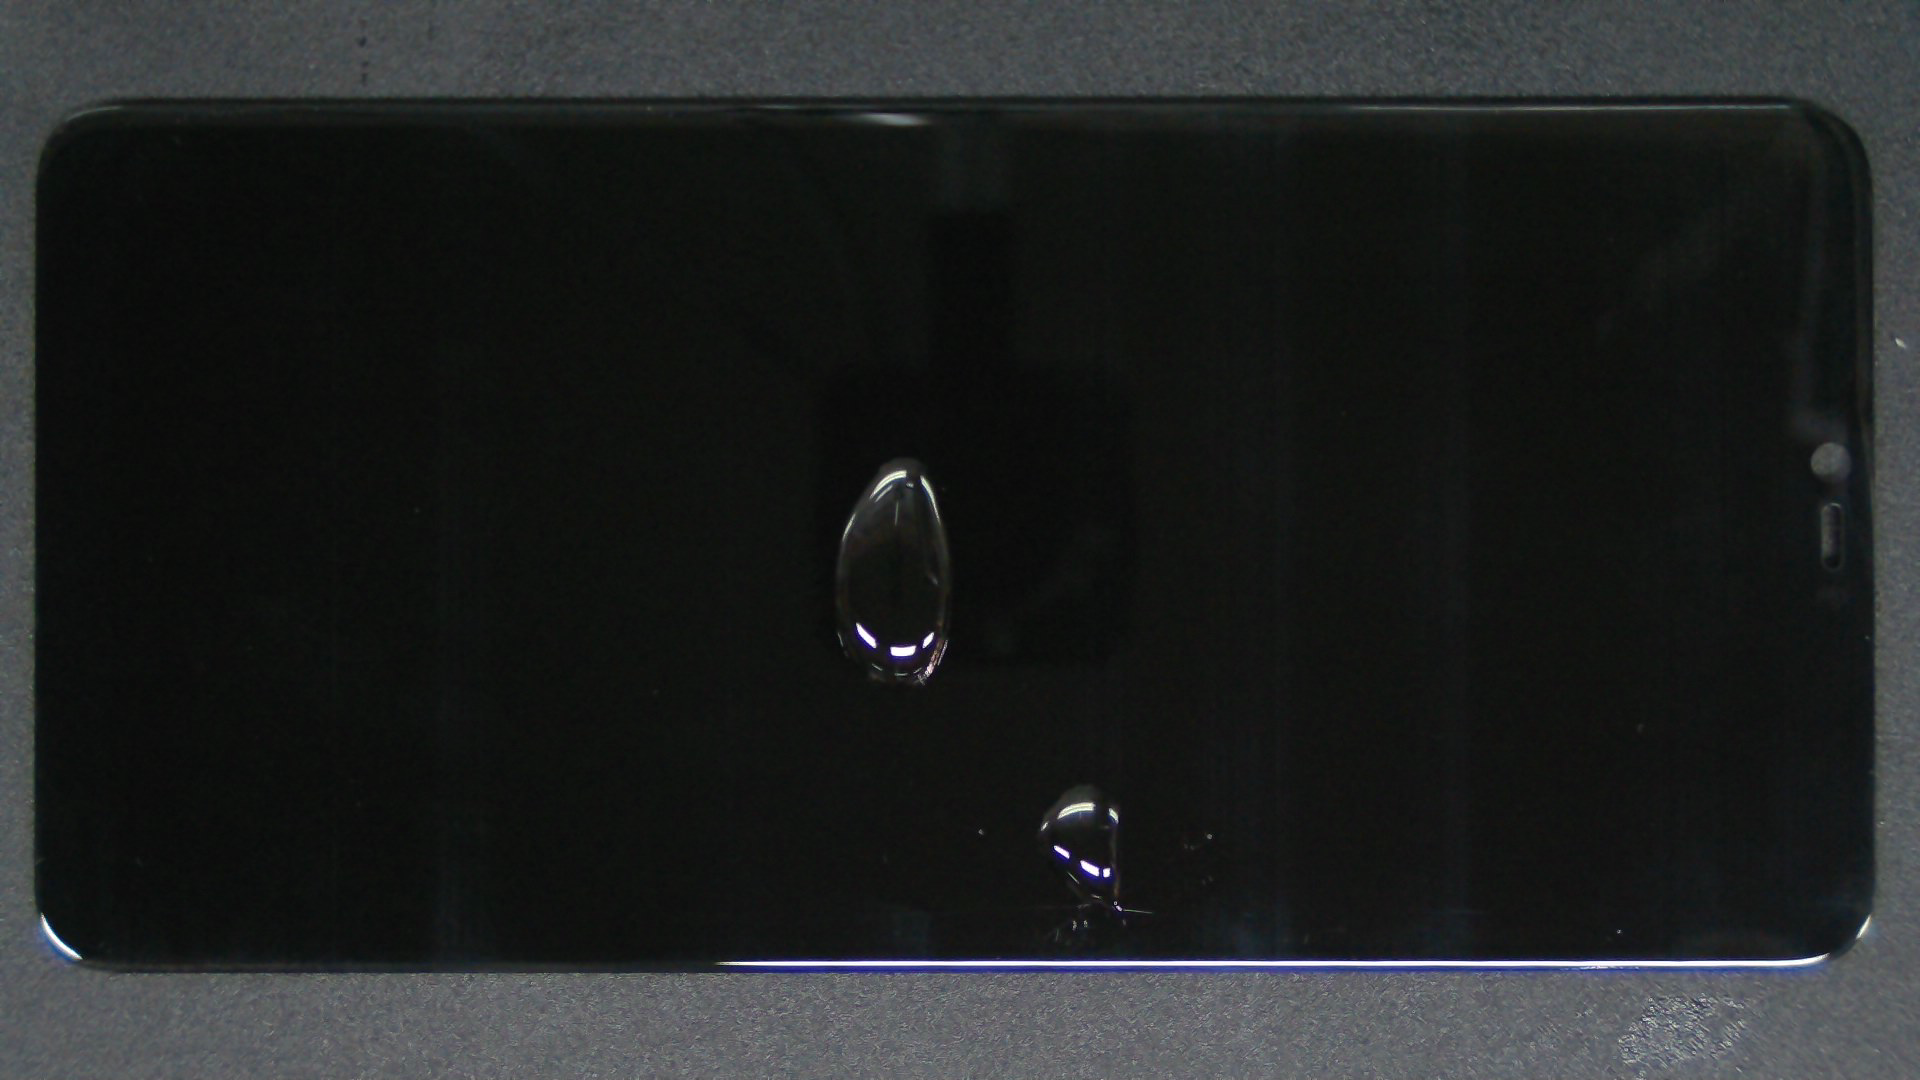defect: (833, 456, 951, 691), (1036, 785, 1124, 913)
